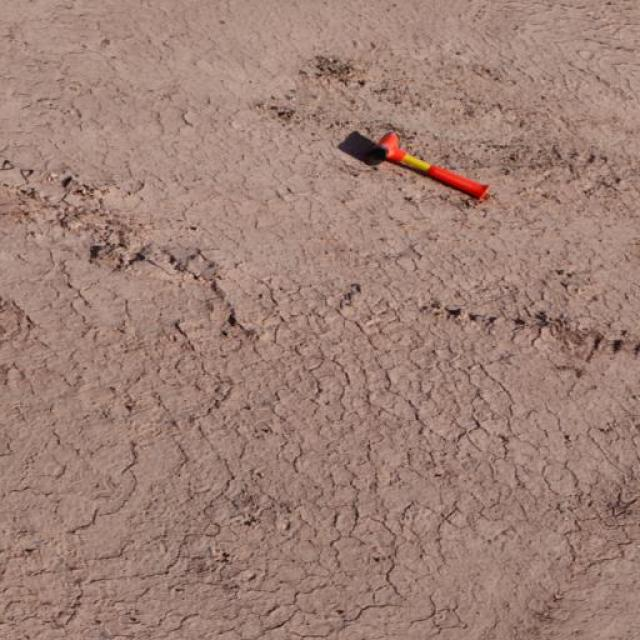mallet: (361, 128, 490, 202)
